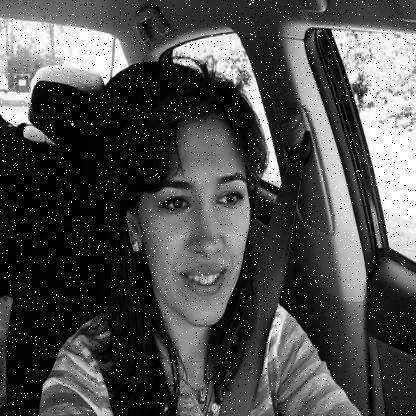seatbelt: (68, 30, 310, 416)
